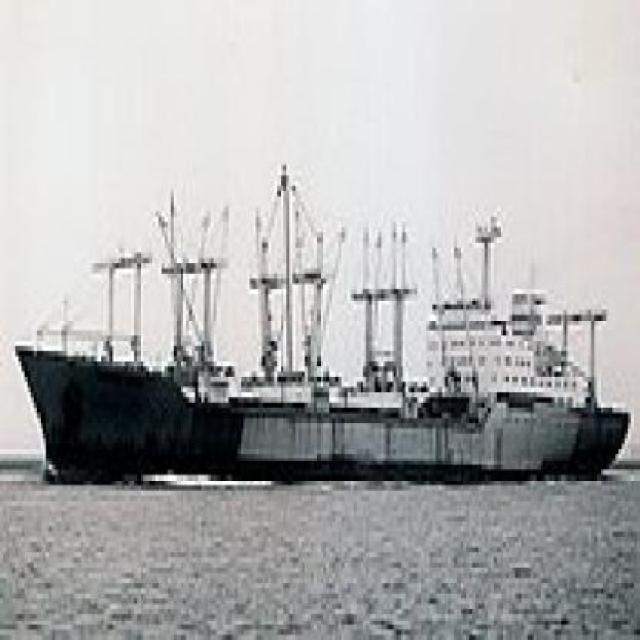container: (13, 146, 635, 507)
